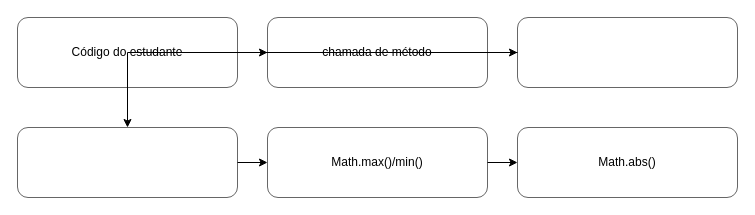
Some shapes in this 755 by 215 pixel diagram are drawn without their labels. Here are the shapes that lost their labels. From the top down, the centre of each, then its label:
the point at 627,52: Math.sqrt()
the point at 127,162: Math.pow()
